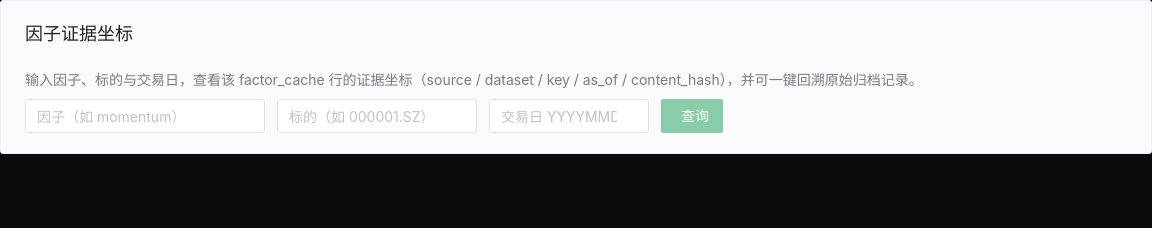
FactorCitation › reports a row-less lookup as 未命中 rather than an error
The image size is (1152, 228).
In the field with placeholder "因子（如 momentum）": (135, 116) [37,99,233,133], type "momentum"
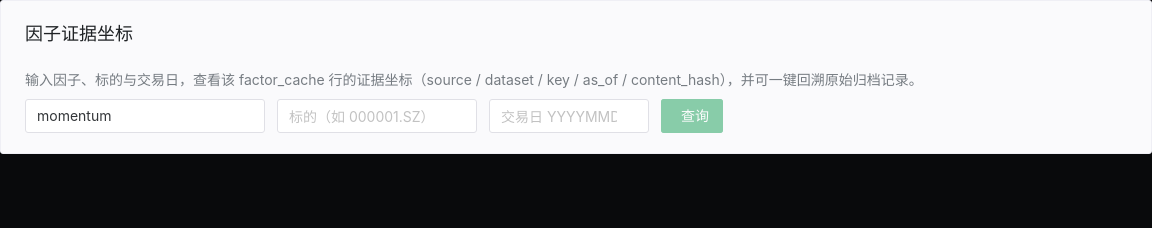
In the field with placeholder "标的（如 000001.SZ）": (367, 116) [289,99,445,133], type "000001.SZ"
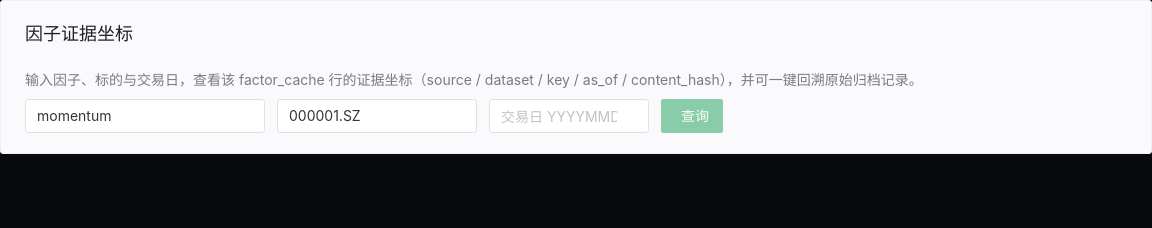
In the field with placeholder "交易日 YYYYMMDD": (559, 116) [501,99,617,133], type "20260105"
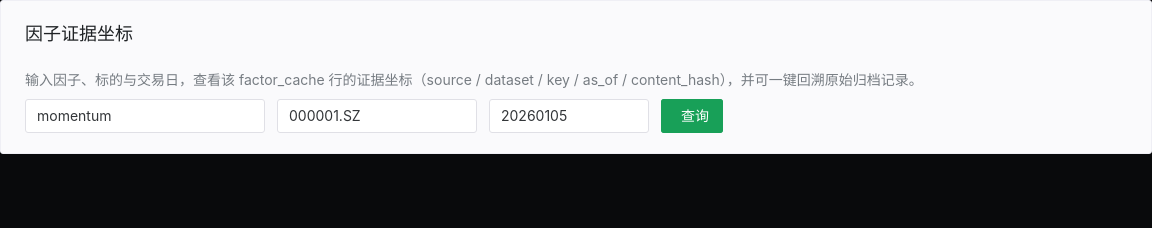
Click the button "查询": (692, 116) [661,99,723,133]
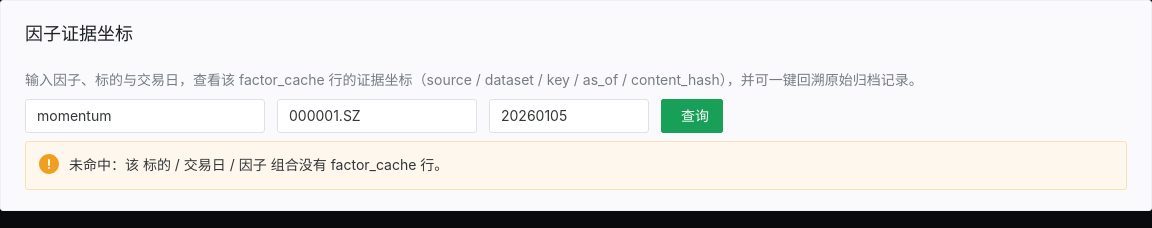
Expected: the text "未命中" is shown, [69,156,448,173]
